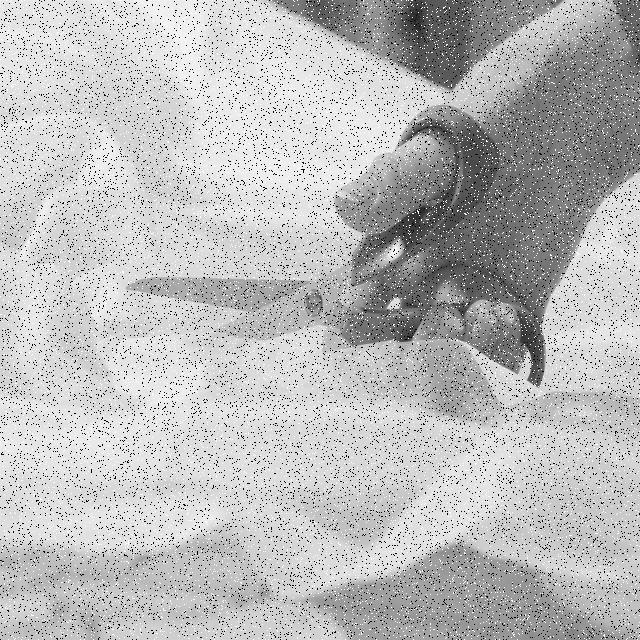scissors: (118, 95, 550, 442)
